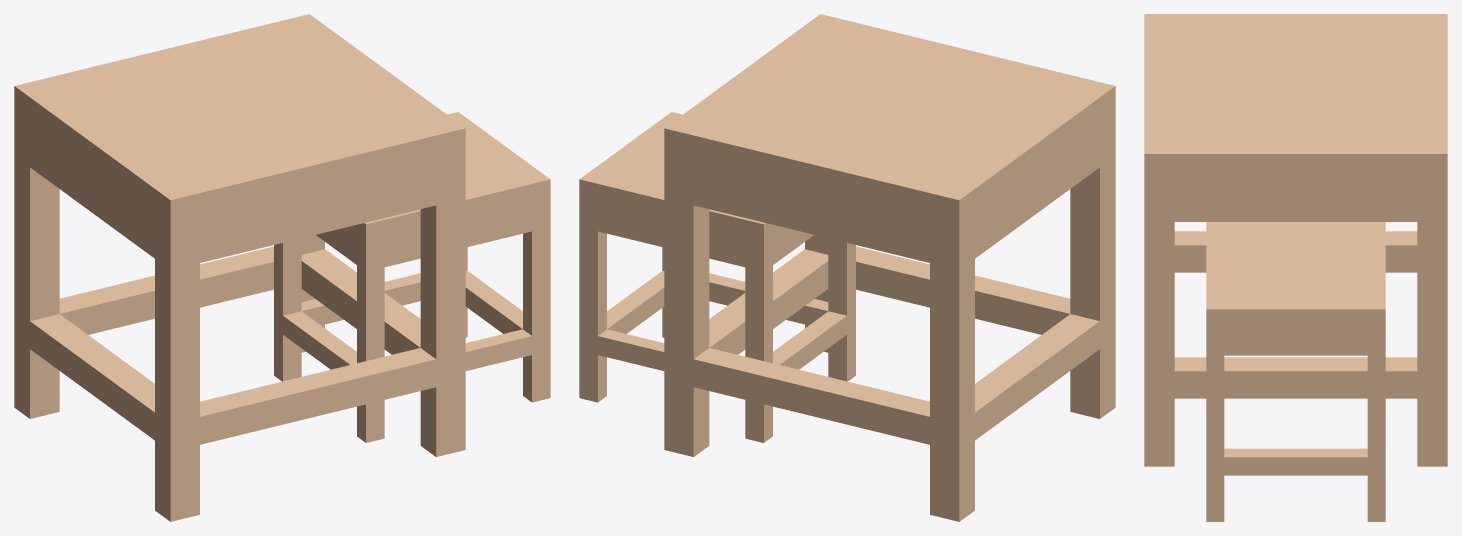
The model's file is before-nested.glb.
The picture shows the model from 3 angles, left to right: view 1: azimuth 30°, elevation 25°; view 2: azimuth 150°, elevation 25°; view 3: azimuth 270°, elevation 25°; orthographic projection. The views are drawn at different scales.
Parts seen in each view (by area): view 1: side-table-nested-main, side-table-top, side-table-nested-small; view 2: side-table-nested-main, side-table-top, side-table-nested-small; view 3: side-table-nested-main, side-table-top, side-table-nested-small.
Boxes of the visible parts, bbox=[...] form: side-table-nested-main: bbox=[14, 86, 465, 521]; side-table-top: bbox=[15, 14, 464, 200]; side-table-nested-small: bbox=[274, 112, 550, 442]; side-table-nested-main: bbox=[664, 86, 1115, 521]; side-table-top: bbox=[665, 14, 1114, 200]; side-table-nested-small: bbox=[579, 112, 855, 442]; side-table-nested-main: bbox=[1144, 154, 1447, 466]; side-table-top: bbox=[1144, 14, 1447, 153]; side-table-nested-small: bbox=[1206, 222, 1385, 521].
Size of the model in its own units: 0.67 by 0.5 by 0.44.
